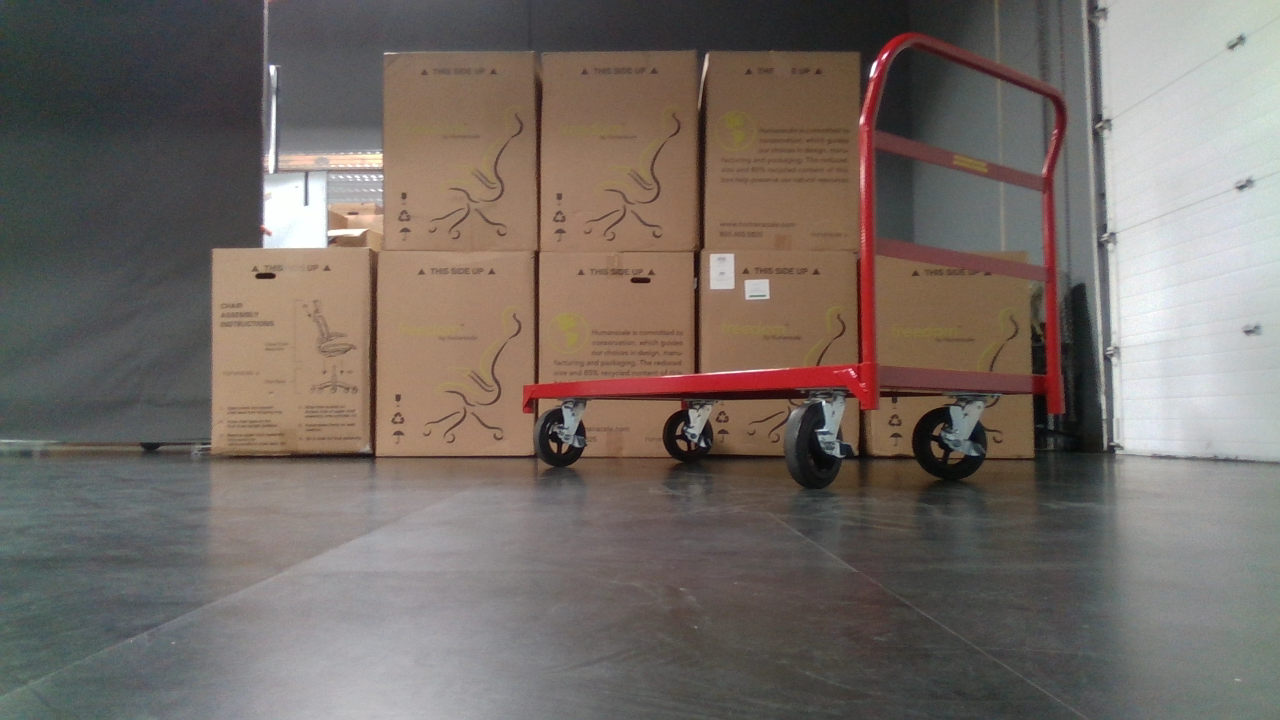Dolly: (520, 29, 1068, 488)
Wheel: (780, 399, 853, 489), (911, 398, 989, 481), (530, 401, 591, 467), (661, 399, 715, 463)
